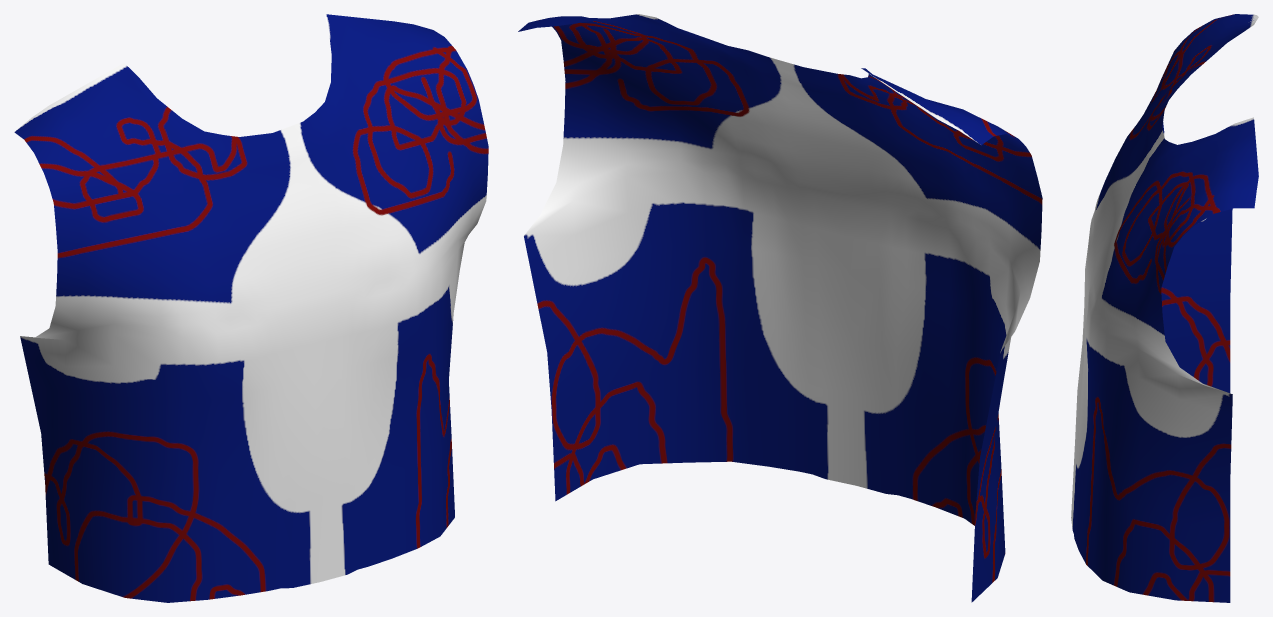
The model's file is front.glb.
The picture shows the model from 3 angles, left to right: view 1: azimuth 30°, elevation 25°; view 2: azimuth 150°, elevation 25°; view 3: azimuth 270°, elevation 25°; orthographic projection. The views are drawn at different scales.
Parts seen in each view (by area): view 1: front; view 2: front; view 3: front.
Boxes of the visible parts, box(x1,y1,x2,y2) form: front: box(14, 14, 488, 602); front: box(518, 14, 1042, 602); front: box(1071, 14, 1258, 602).
Bounding box in the file's own units: 1.17 × 1.23 × 0.469.
Materials: 1 (1 with a texture image).
